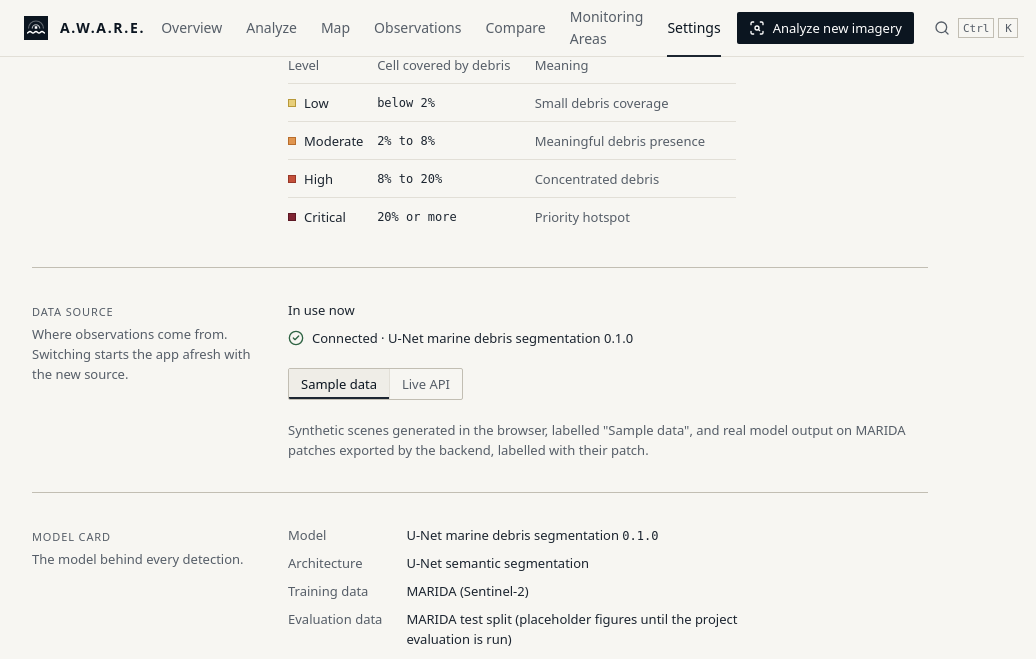
Scenario: Settings page › explains a server error
(page scrolled)
Click the radio button labelled "Live API".
click(425, 384)  # box 389,369 -> 462,399
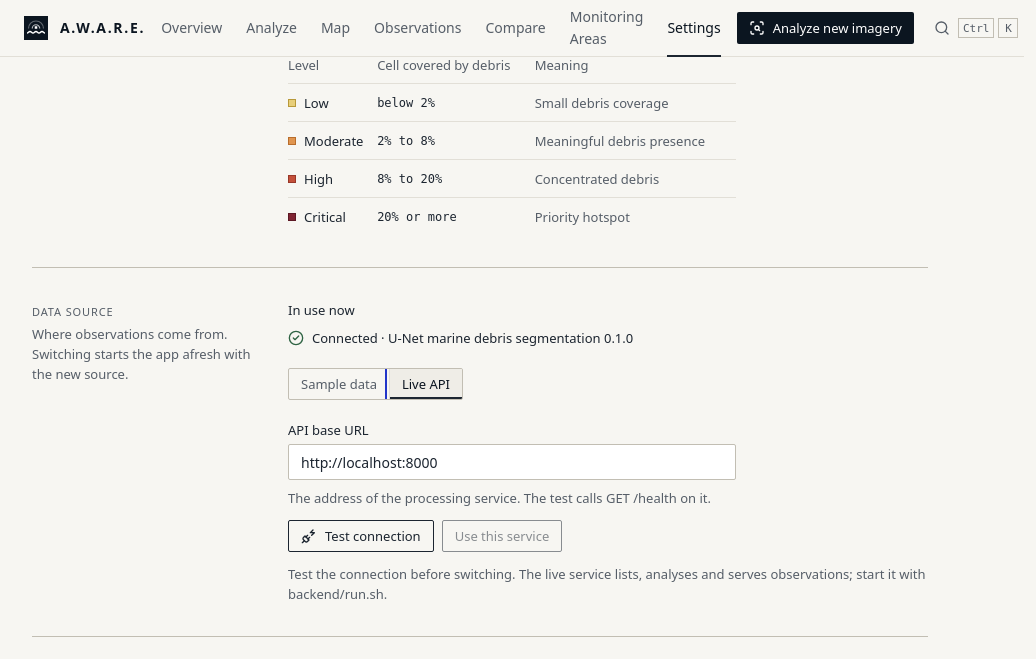
Click the button "Test connection".
click(361, 536)  # box 288,520 -> 434,552
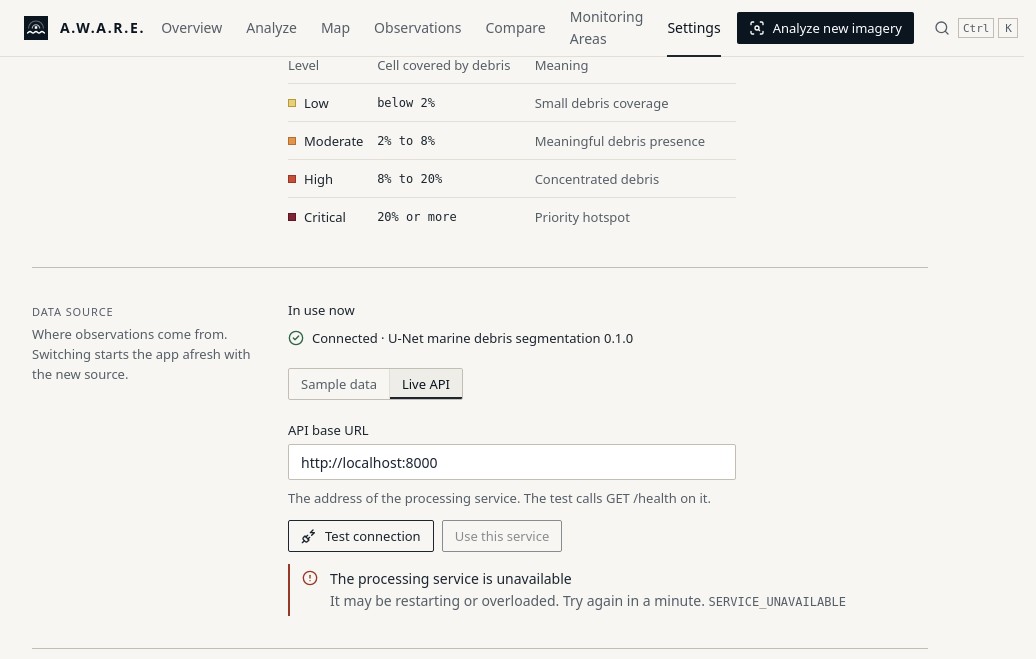
Expected: the button "Use this service" is disabled, 442,520 -> 562,552
Expected: the text "The processing service is unavailable" is shown, 330,569 -> 572,588
